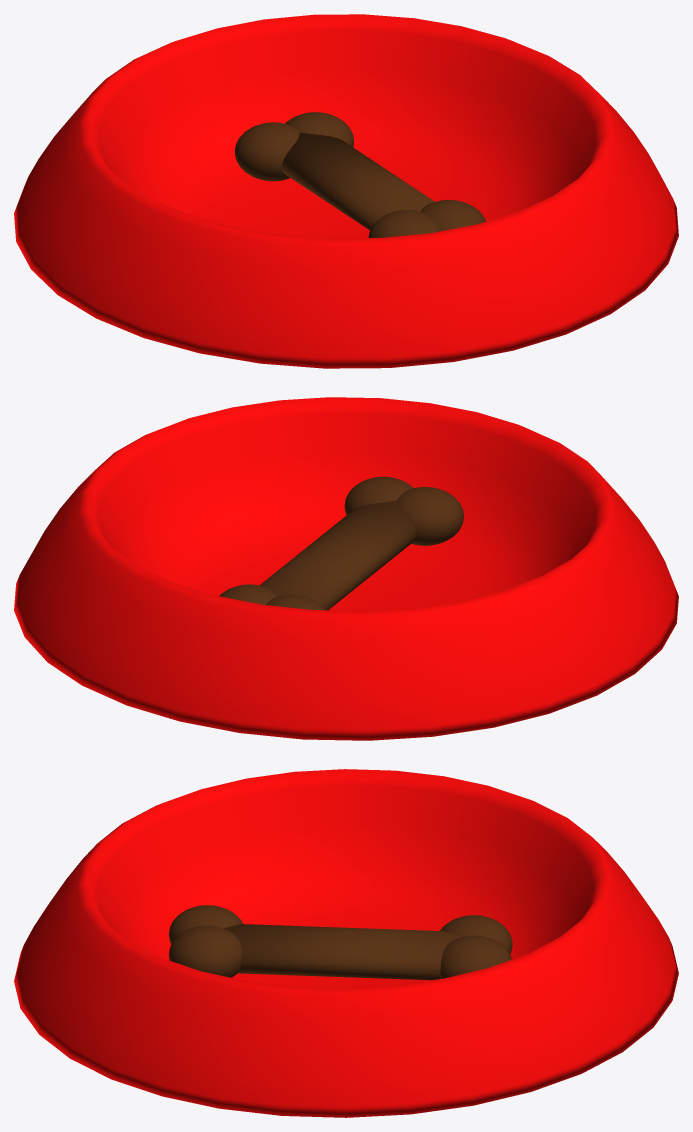
Rendered from poteracao.obj.
The picture shows the model from 3 angles, top to bottom: view 1: azimuth 30°, elevation 25°; view 2: azimuth 150°, elevation 25°; view 3: azimuth 270°, elevation 25°; orthographic projection.
Parts seen in each view (by area): view 1: Esfera_UV.001_Esfera_UV.002, Esfera_UV.004_Esfera_UV.005; view 2: Esfera_UV.001_Esfera_UV.002, Esfera_UV.004_Esfera_UV.005; view 3: Esfera_UV.001_Esfera_UV.002, Esfera_UV.004_Esfera_UV.005.
Boxes of the visible parts, bbox=[...] form: Esfera_UV.001_Esfera_UV.002: bbox=[14, 14, 678, 368]; Esfera_UV.004_Esfera_UV.005: bbox=[234, 112, 485, 237]; Esfera_UV.001_Esfera_UV.002: bbox=[14, 397, 678, 740]; Esfera_UV.004_Esfera_UV.005: bbox=[219, 476, 463, 610]; Esfera_UV.001_Esfera_UV.002: bbox=[14, 769, 678, 1117]; Esfera_UV.004_Esfera_UV.005: bbox=[168, 905, 512, 980].
Size of the model in its own units: 1.77 by 0.3458 by 1.77.
